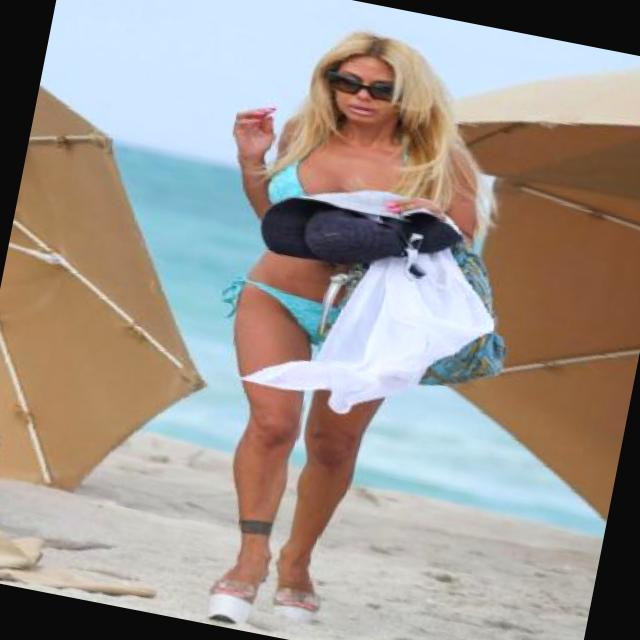Person: (109, 0, 569, 640)
